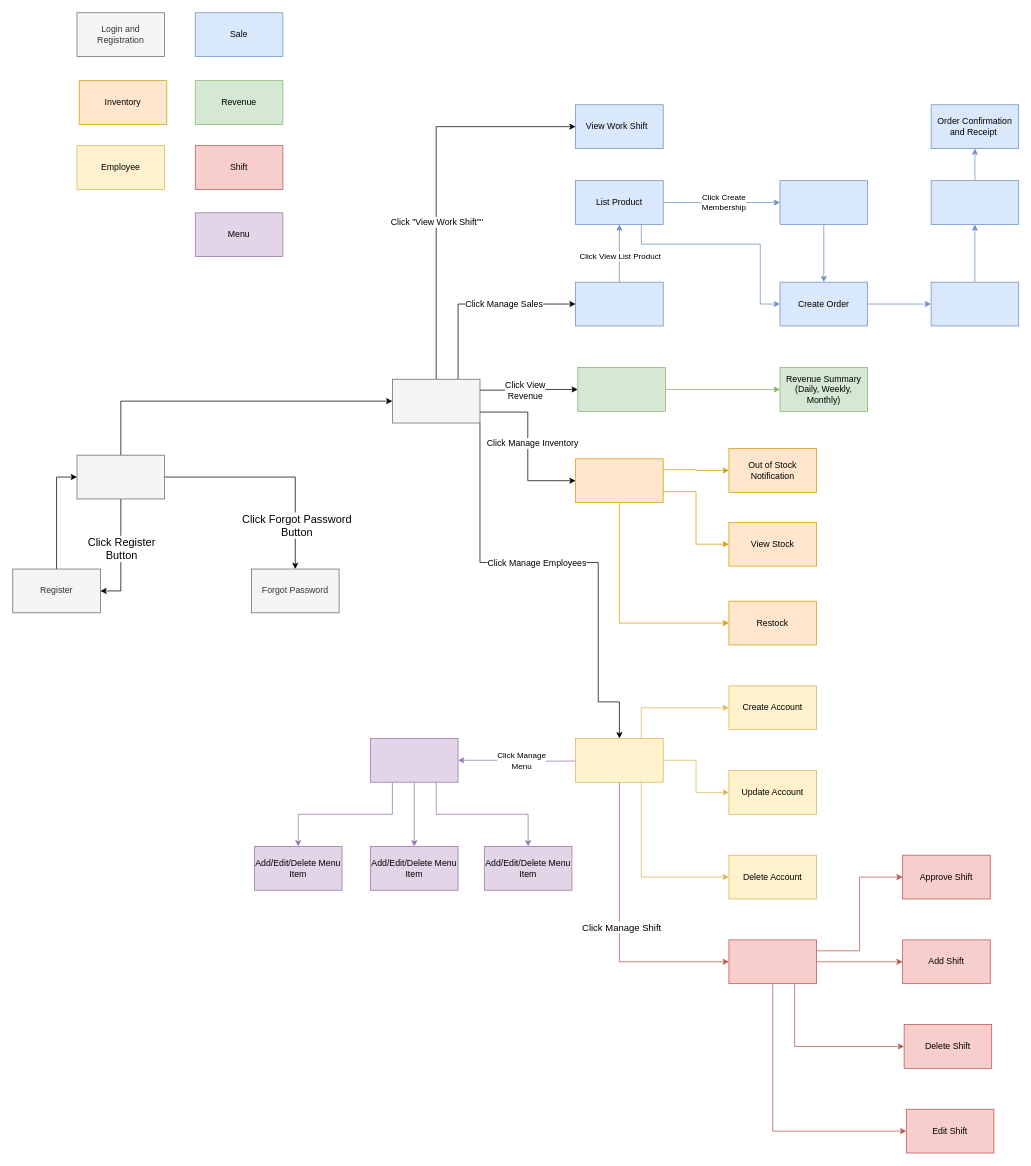
This 1031x1166 diagram has some shape labels left out. The centre of each missing label's shape, as x and y in pixels:
Customer Membership Creation: [823,202]
Edit Order: [974,303]
Employee Management: [619,760]
Finalize Order and Checkout Screen: [974,202]
Home: [436,401]
Inventory Management: [619,480]
Login: [120,476]
Menu Management: [414,760]
Revenue Management: [621,389]
Sale Management: [619,303]
Shift Management: [772,961]
